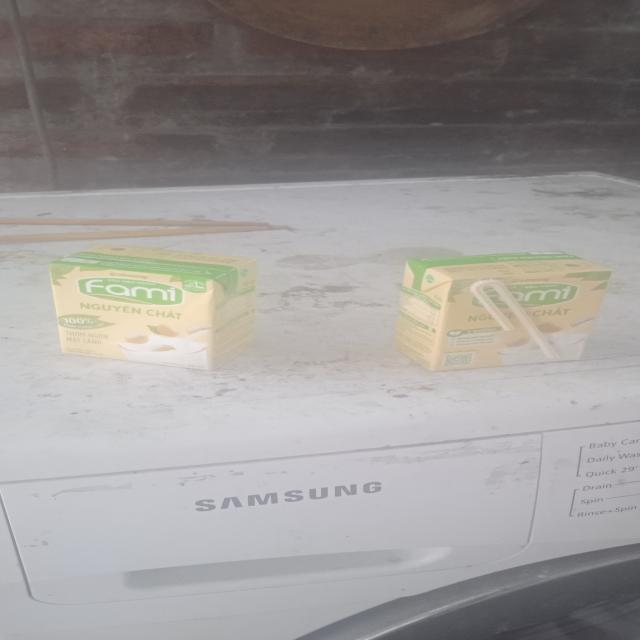Fami: (389, 250, 618, 374), (49, 243, 264, 371)
